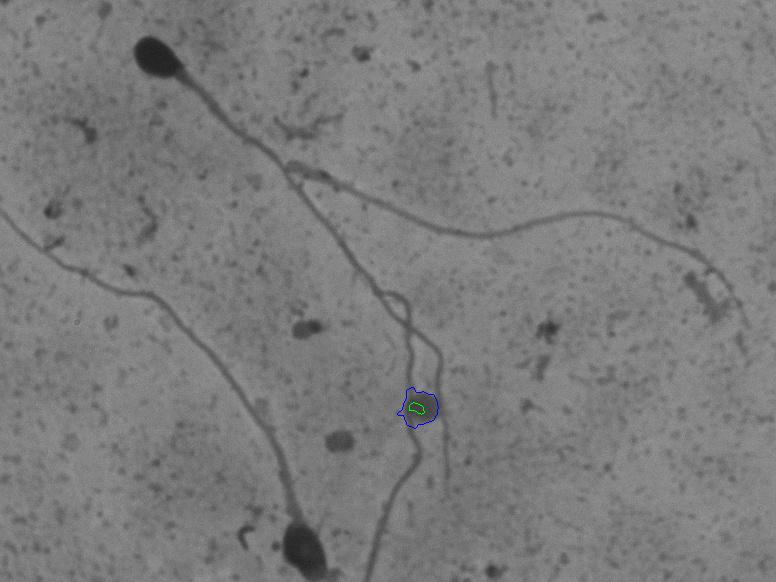Abnormal: (109, 18, 460, 504)
